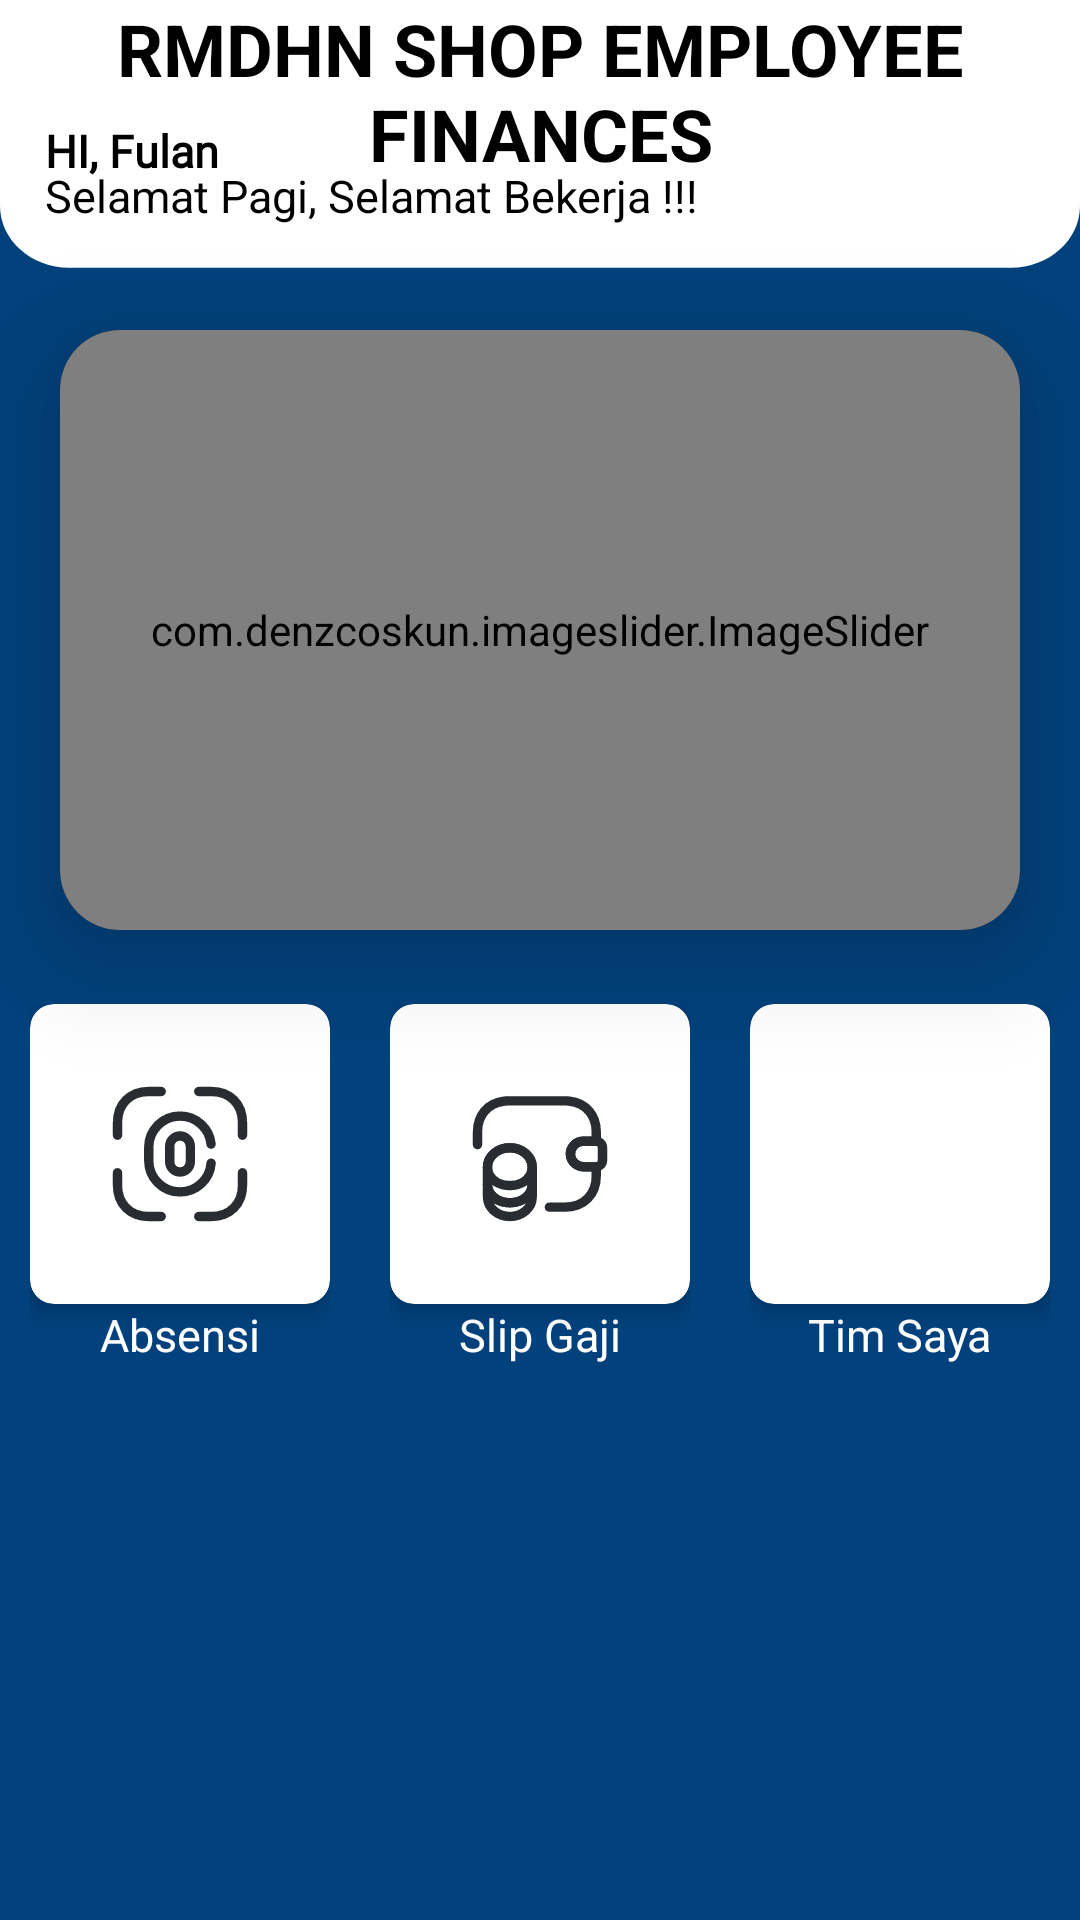

Icon bounding boxes for this 1080 x 1920 phone screenshot, format (x1, y1, x2, y2):
wallet: (472, 1096, 608, 1222)
